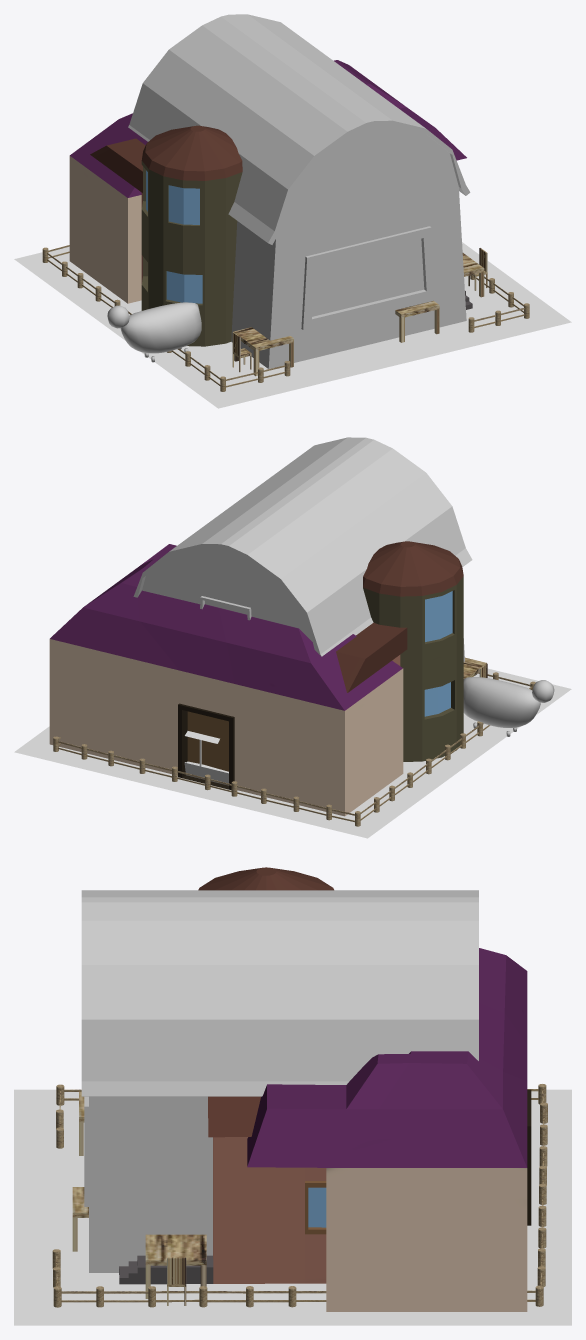
File: carne.fbx
3 views of the same model, one above another, from view 1: azimuth 30°, elevation 25°; view 2: azimuth 150°, elevation 25°; view 3: azimuth 270°, elevation 25° (orthographic). The views are drawn at different scales.
Visible parts, largest first — view 1: almacen, casa normal, Plane, restaurante, vaca, vallas; view 2: restaurante, almacen, casa normal, Plane, vaca, vallas, comedero_vacio; view 3: almacen, restaurante, Plane, casa normal, vallas.
Part boxes in pixels (box(x1,y1,x2,y2)): almacen: box(128, 14, 470, 368); casa normal: box(90, 125, 472, 346); Plane: box(14, 242, 571, 408); restaurante: box(69, 60, 487, 376); vaca: box(107, 302, 201, 362); vallas: box(42, 245, 529, 391); restaurante: box(49, 544, 487, 816); almacen: box(133, 437, 472, 661); casa normal: box(336, 541, 463, 761); Plane: box(14, 668, 571, 838); vaca: box(463, 677, 554, 736); vallas: box(53, 672, 535, 826); comedero_vacio: box(184, 731, 228, 785); almacen: box(81, 890, 478, 1272); restaurante: box(72, 948, 531, 1311); Plane: box(14, 1089, 571, 1325); casa normal: box(119, 867, 333, 1284); vallas: box(52, 1084, 547, 1307).
Bounding box in the file's own units: 22.63 × 13.01 × 20.05.
